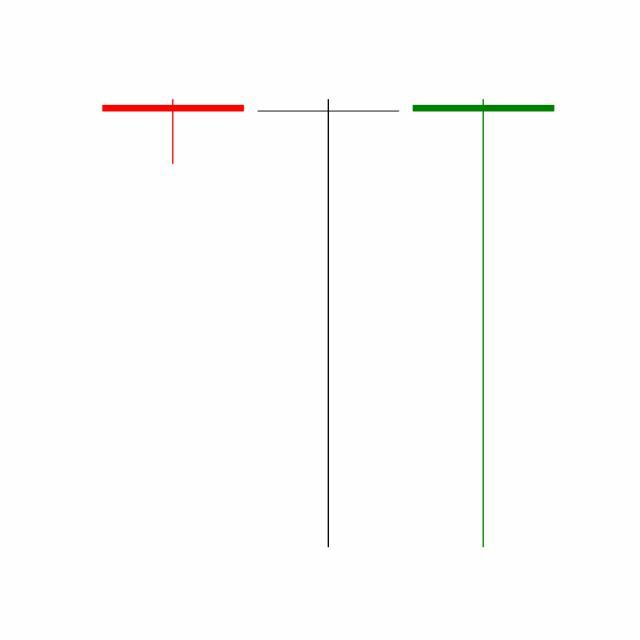Dragonfly Doji: (406, 95, 562, 553)
